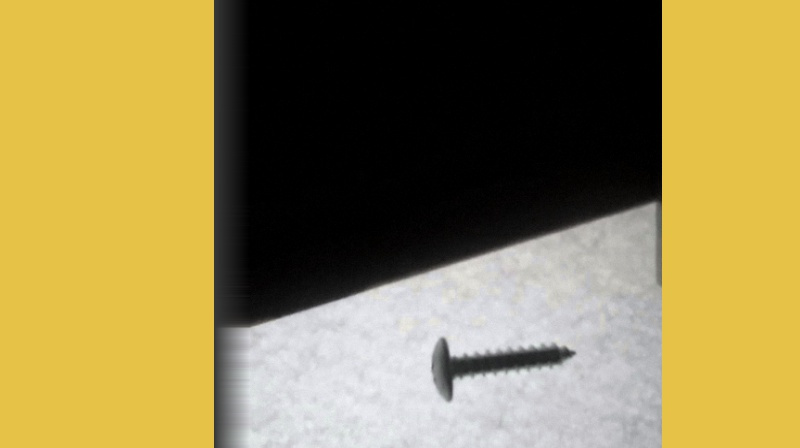S003: (428, 331, 579, 404)
